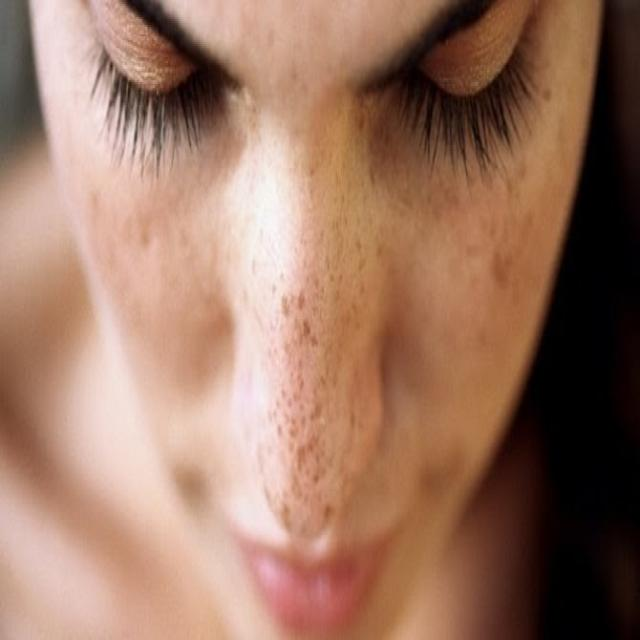Dark-Spots: (245, 119, 383, 546), (389, 127, 566, 412), (84, 174, 241, 376)
